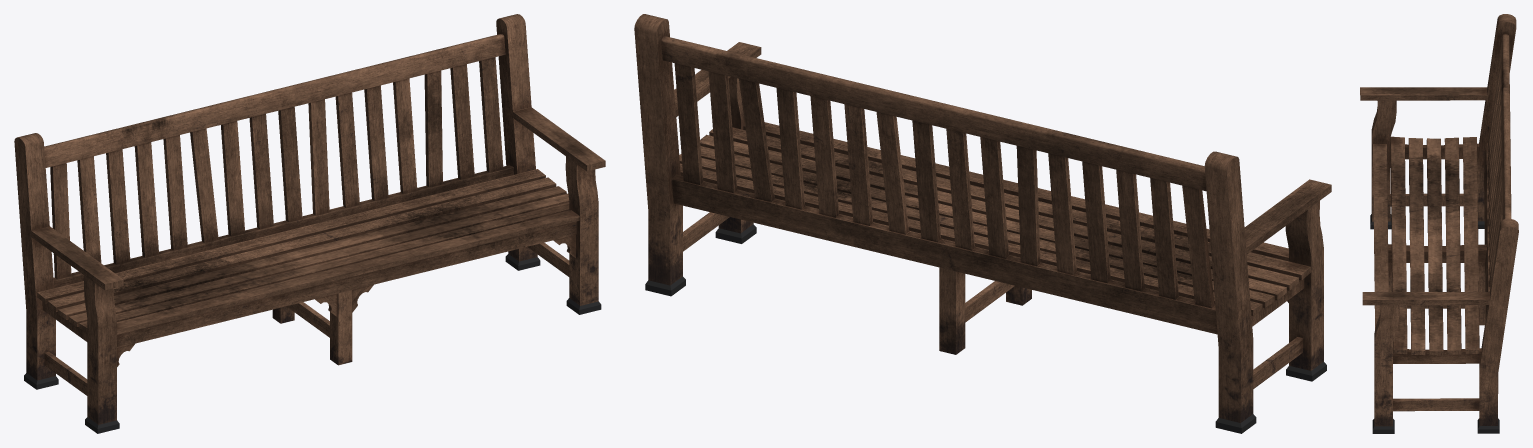
The model's file is wooden_park_bench.glb.
3 views of the same model, side by side, from view 1: azimuth 30°, elevation 25°; view 2: azimuth 150°, elevation 25°; view 3: azimuth 270°, elevation 25° (orthographic). The views are drawn at different scales.
Parts seen in each view (by area): view 1: Bench; view 2: Bench; view 3: Bench.
Part boxes in pixels (bbox=[...]): Bench: bbox=[14, 14, 605, 433]; Bench: bbox=[634, 14, 1331, 433]; Bench: bbox=[1360, 14, 1518, 433].
Size of the model in its own units: 2.66 by 1.2 by 0.8338.
Materials: 1 (1 with a texture image).
